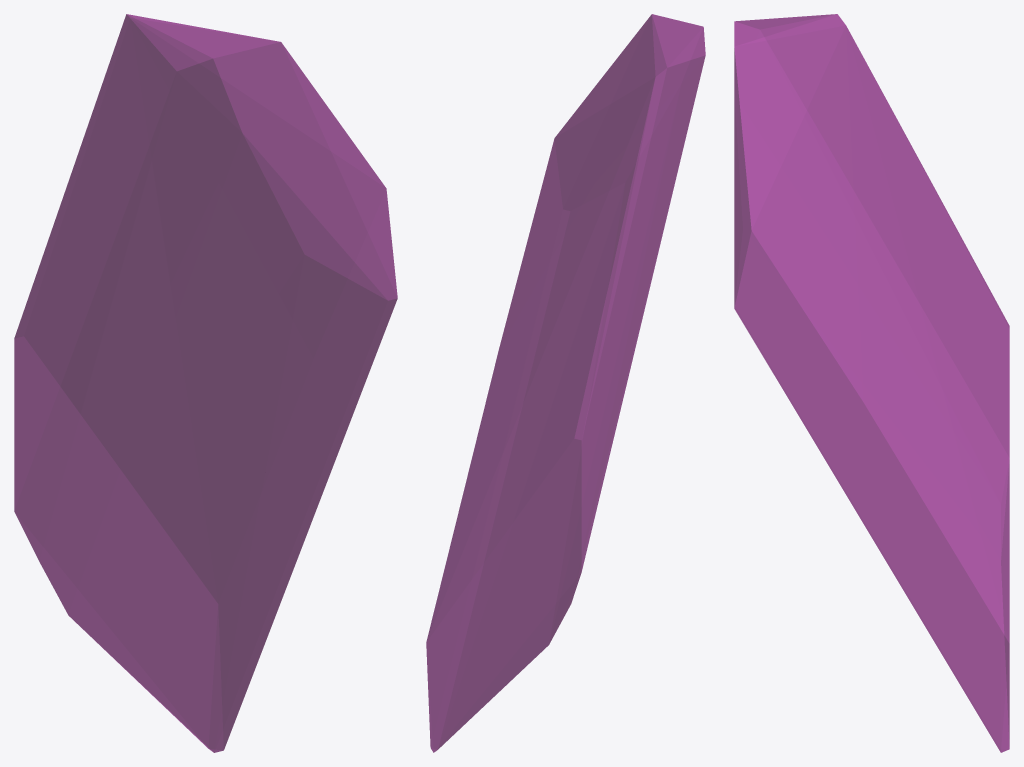
3 renders of one model, left to right at view 1: azimuth 30°, elevation 25°; view 2: azimuth 150°, elevation 25°; view 3: azimuth 270°, elevation 25°, orthographic. The views are drawn at different scales.
Visible parts, largest first — view 1: Shape_IndexedFaceSet.095_Shape_IndexedFaceSet.9556; view 2: Shape_IndexedFaceSet.095_Shape_IndexedFaceSet.9556; view 3: Shape_IndexedFaceSet.095_Shape_IndexedFaceSet.9556.
Boxes of the visible parts, left/top/right/bottom form: Shape_IndexedFaceSet.095_Shape_IndexedFaceSet.9556: left=14, top=14, right=397, bottom=752; Shape_IndexedFaceSet.095_Shape_IndexedFaceSet.9556: left=426, top=14, right=705, bottom=752; Shape_IndexedFaceSet.095_Shape_IndexedFaceSet.9556: left=734, top=14, right=1009, bottom=752.
Bounding box in the file's own units: 0.0565 × 0.2286 × 0.0861.
